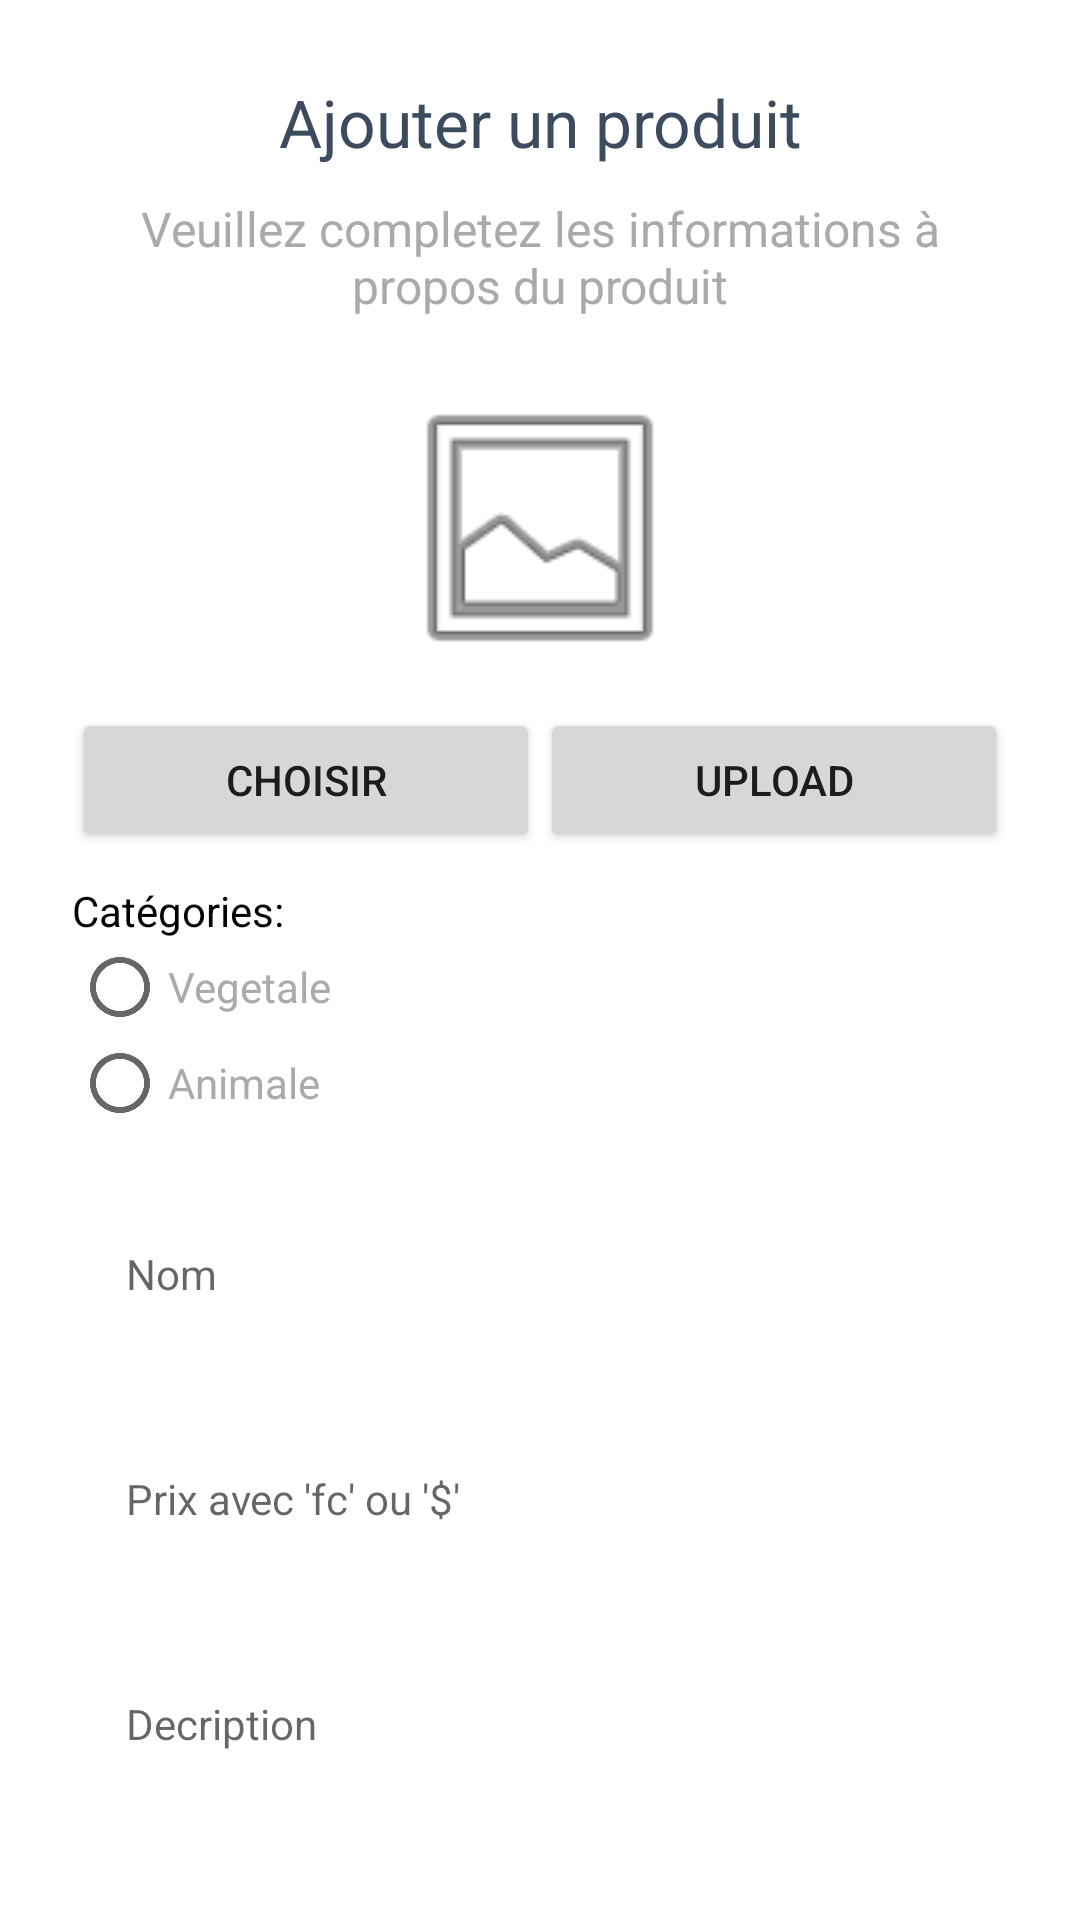

Point at icon controls on the screen. Image size 1080x1920, points as [x,y].
gallery: [540,528]
